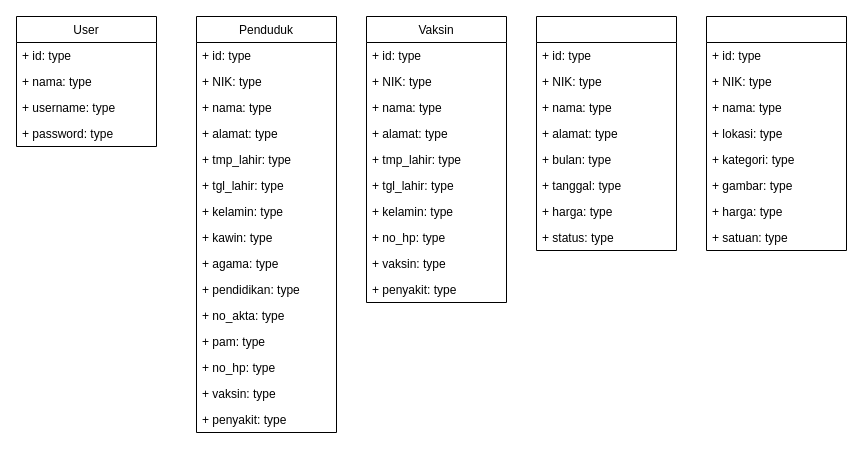
Image size: 863x449. Some labels were removed from this diagram. Each missing label, with the box of its shape:
Pam: (536, 16, 676, 250)
Produk: (706, 16, 846, 250)
